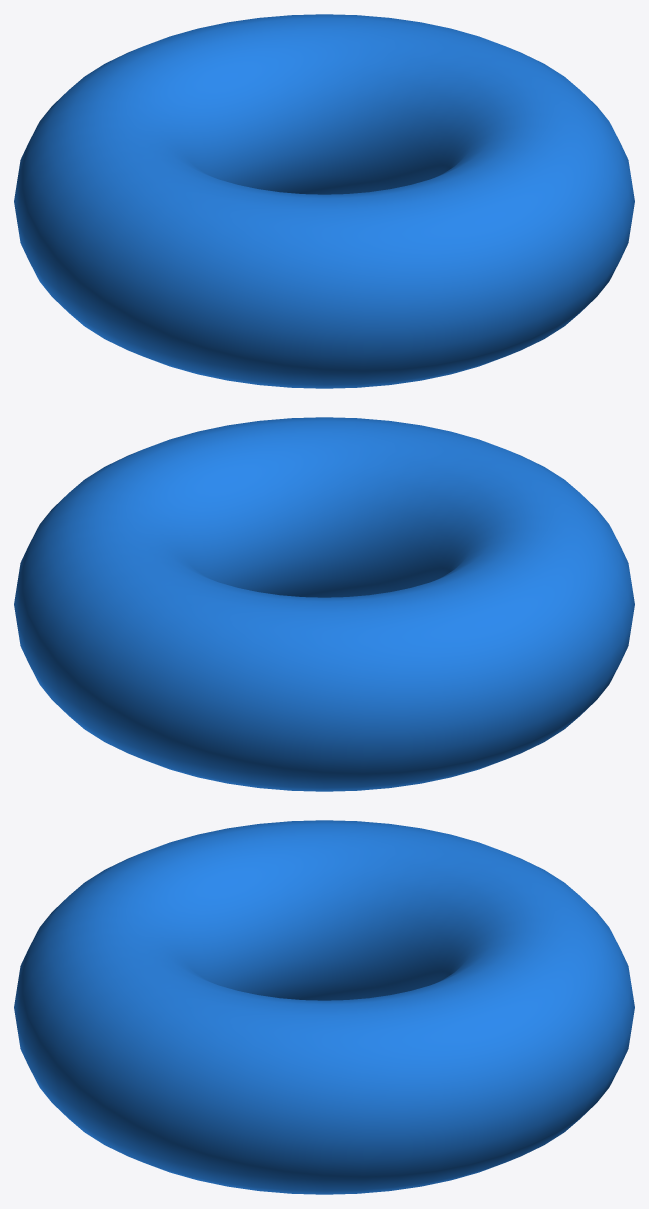
3 views of the same model, one above another, from view 1: azimuth 30°, elevation 25°; view 2: azimuth 150°, elevation 25°; view 3: azimuth 270°, elevation 25° (orthographic).
Parts seen in each view (by area): view 1: Torus.001; view 2: Torus.001; view 3: Torus.001.
Part boxes in pixels (<box>): Torus.001: <box>14,14,634,388</box>; Torus.001: <box>14,417,634,791</box>; Torus.001: <box>14,820,634,1194</box>.
Size of the model in its own units: 1.6 by 0.4949 by 1.6.
